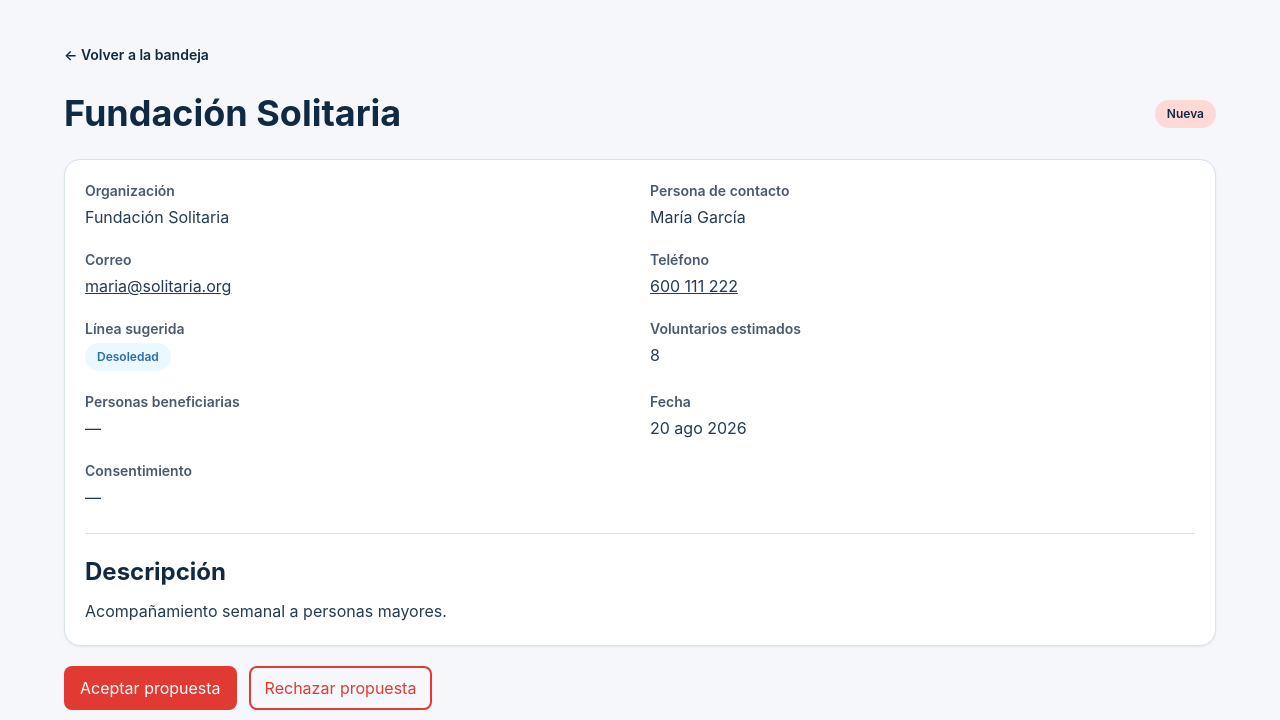
Test case: ProposalDetailPage › gestiona 409 conflicto en aceptar y rechazar
Expected: the heading "Fundación Solitaria" is shown, [64,92,401,135]
What coordinates should you click on to do the following:
click the button "Aceptar propuesta"
I would click on:
 (150, 688)
Its box is [64,666,237,710].
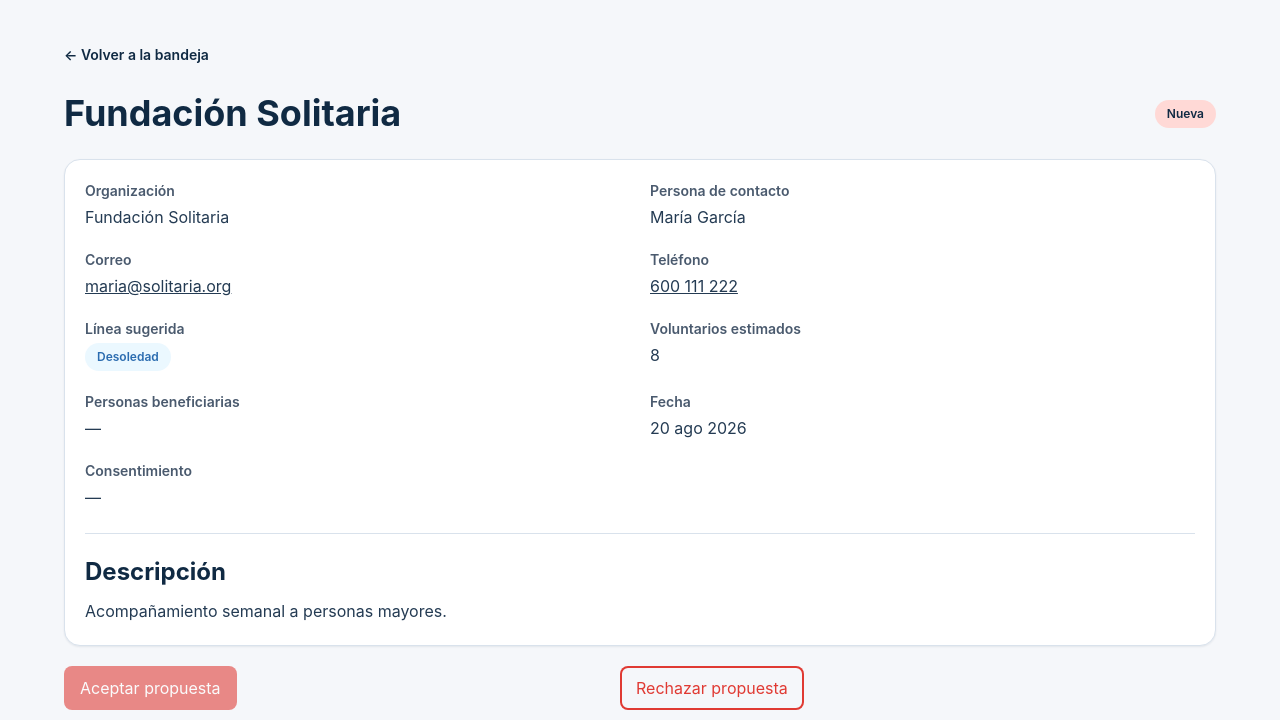
Expected: the button "Aceptar propuesta" is disabled, [64,666,237,710]
